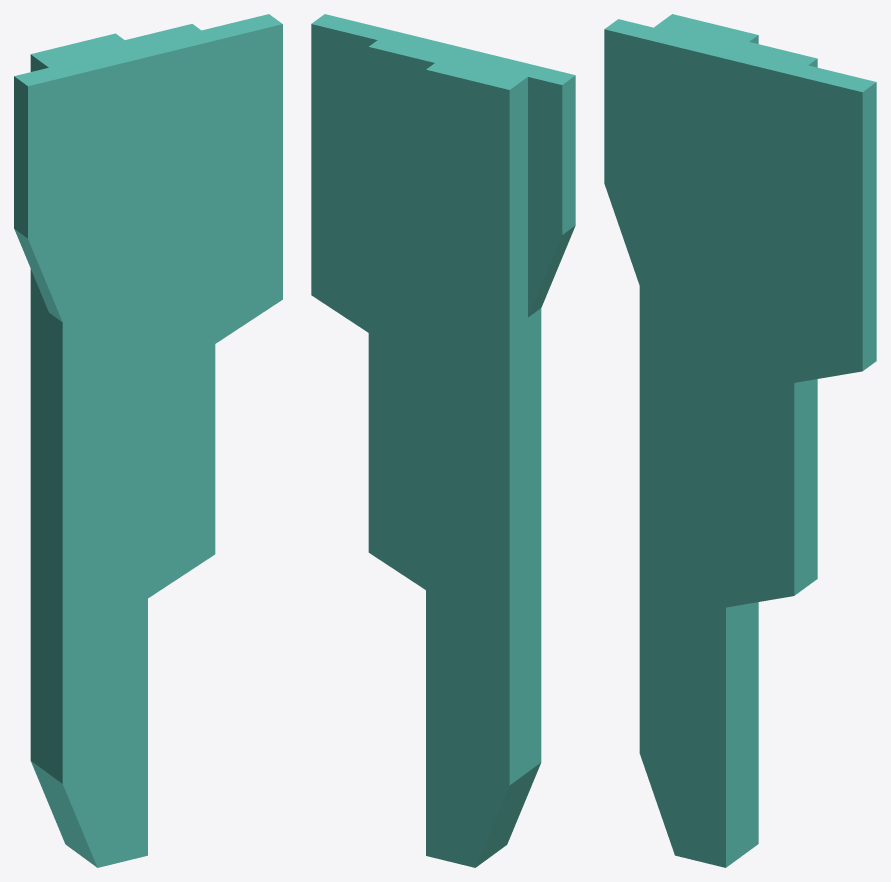
Rendered from hanging_moss.glb.
3 renders of one model, left to right at view 1: azimuth 30°, elevation 25°; view 2: azimuth 150°, elevation 25°; view 3: azimuth 330°, elevation 25°, orthographic. The views are drawn at different scales.
Visible parts, largest first — view 1: hanging_moss; view 2: hanging_moss; view 3: hanging_moss.
Boxes of the visible parts, bbox=[...] form: hanging_moss: bbox=[14, 14, 282, 867]; hanging_moss: bbox=[311, 14, 575, 867]; hanging_moss: bbox=[604, 14, 876, 867].
Size of the model in its own units: 0.1598 by 0.4785 by 0.035.
